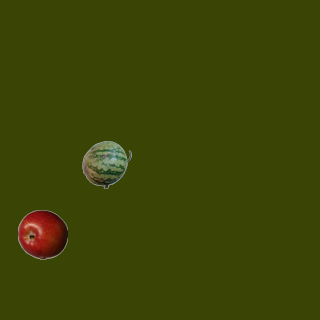Apple Braeburn: (17, 209, 67, 259)
Watermelon: (81, 139, 131, 189)
